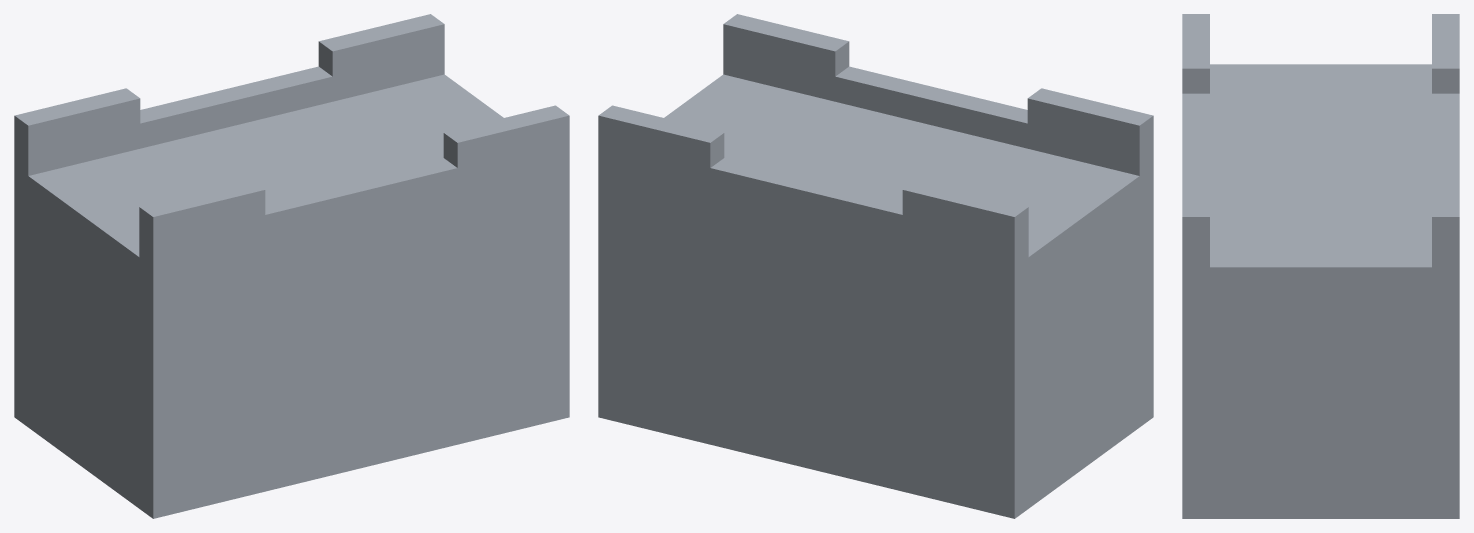
File: wall_top.fbx
3 renders of one model, left to right at view 1: azimuth 30°, elevation 25°; view 2: azimuth 150°, elevation 25°; view 3: azimuth 270°, elevation 25°, orthographic.
Parts seen in each view (by area): view 1: Cylinder; view 2: Cylinder; view 3: Cylinder.
Boxes of the visible parts, box(x1,y1,x2,y2) form: Cylinder: box(14, 14, 569, 518); Cylinder: box(598, 14, 1153, 518); Cylinder: box(1182, 14, 1459, 518).
Bounding box in the file's own units: 1.73 × 1.2 × 1.
